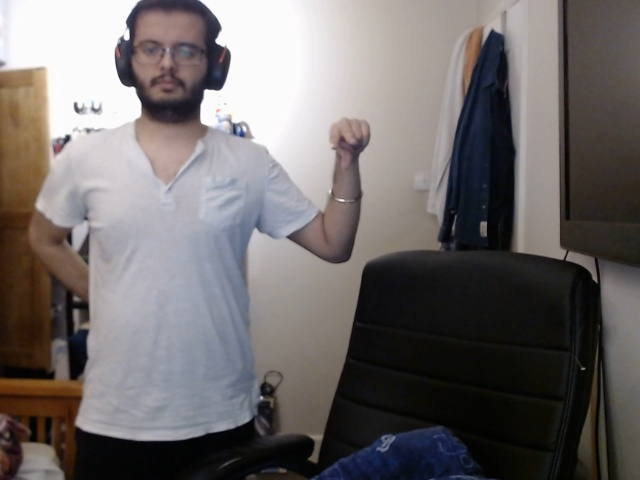No: (318, 114, 391, 178)
